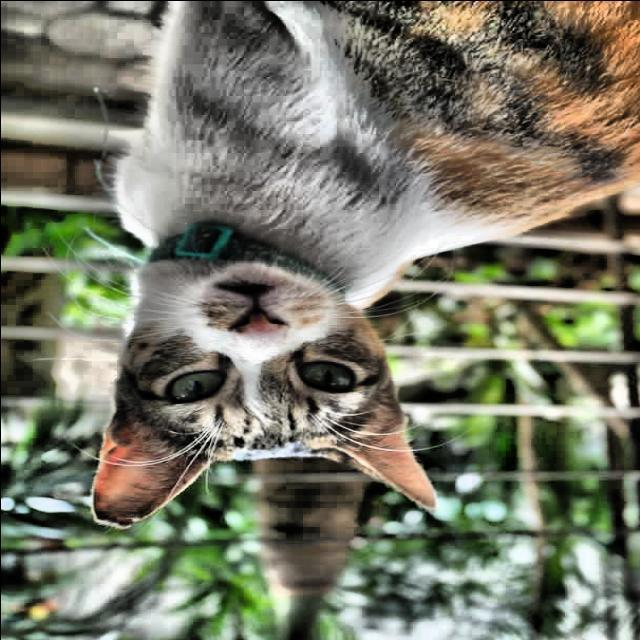Healthy skin: (203, 77, 387, 225), (476, 51, 599, 190)
